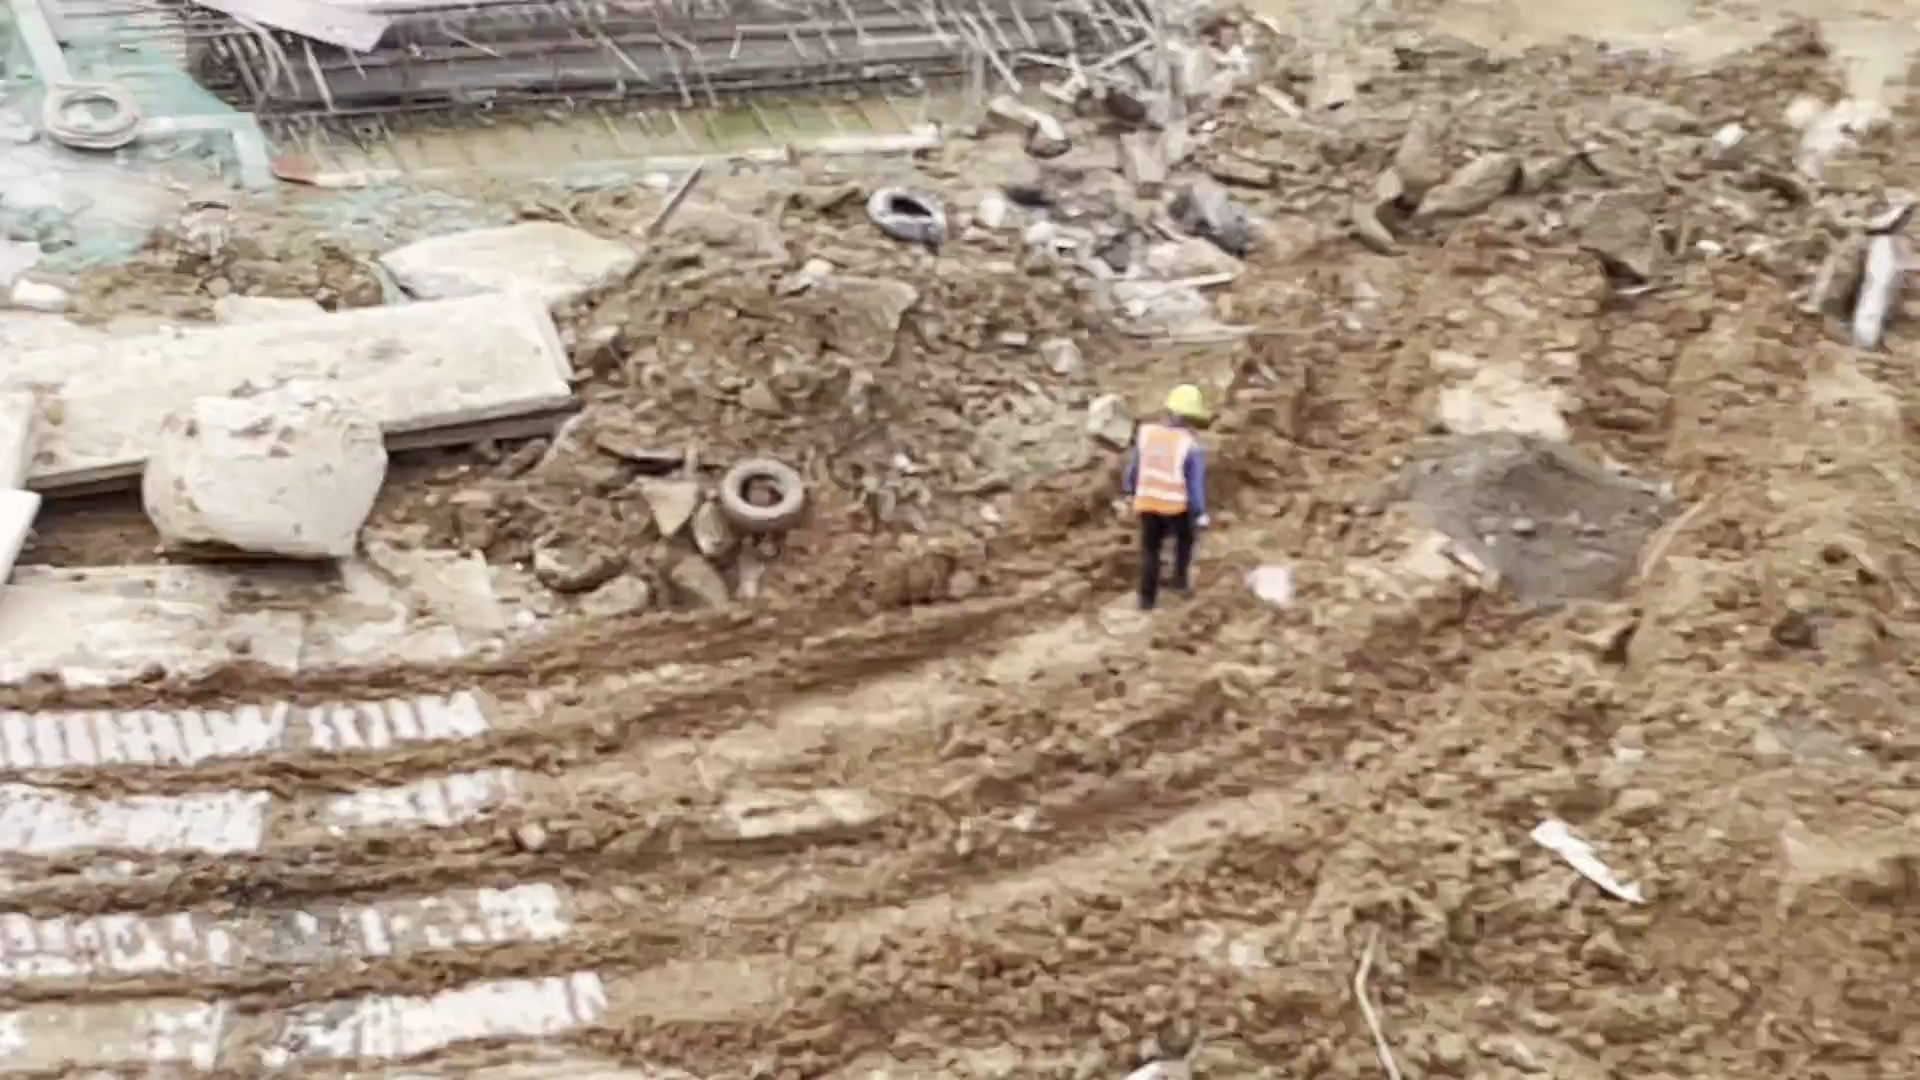helmet: (1167, 381, 1205, 423)
person: (1124, 384, 1208, 610)
vest: (1134, 425, 1187, 512)
